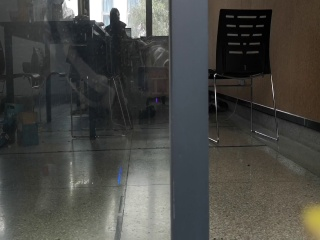room: (5, 3, 314, 240)
